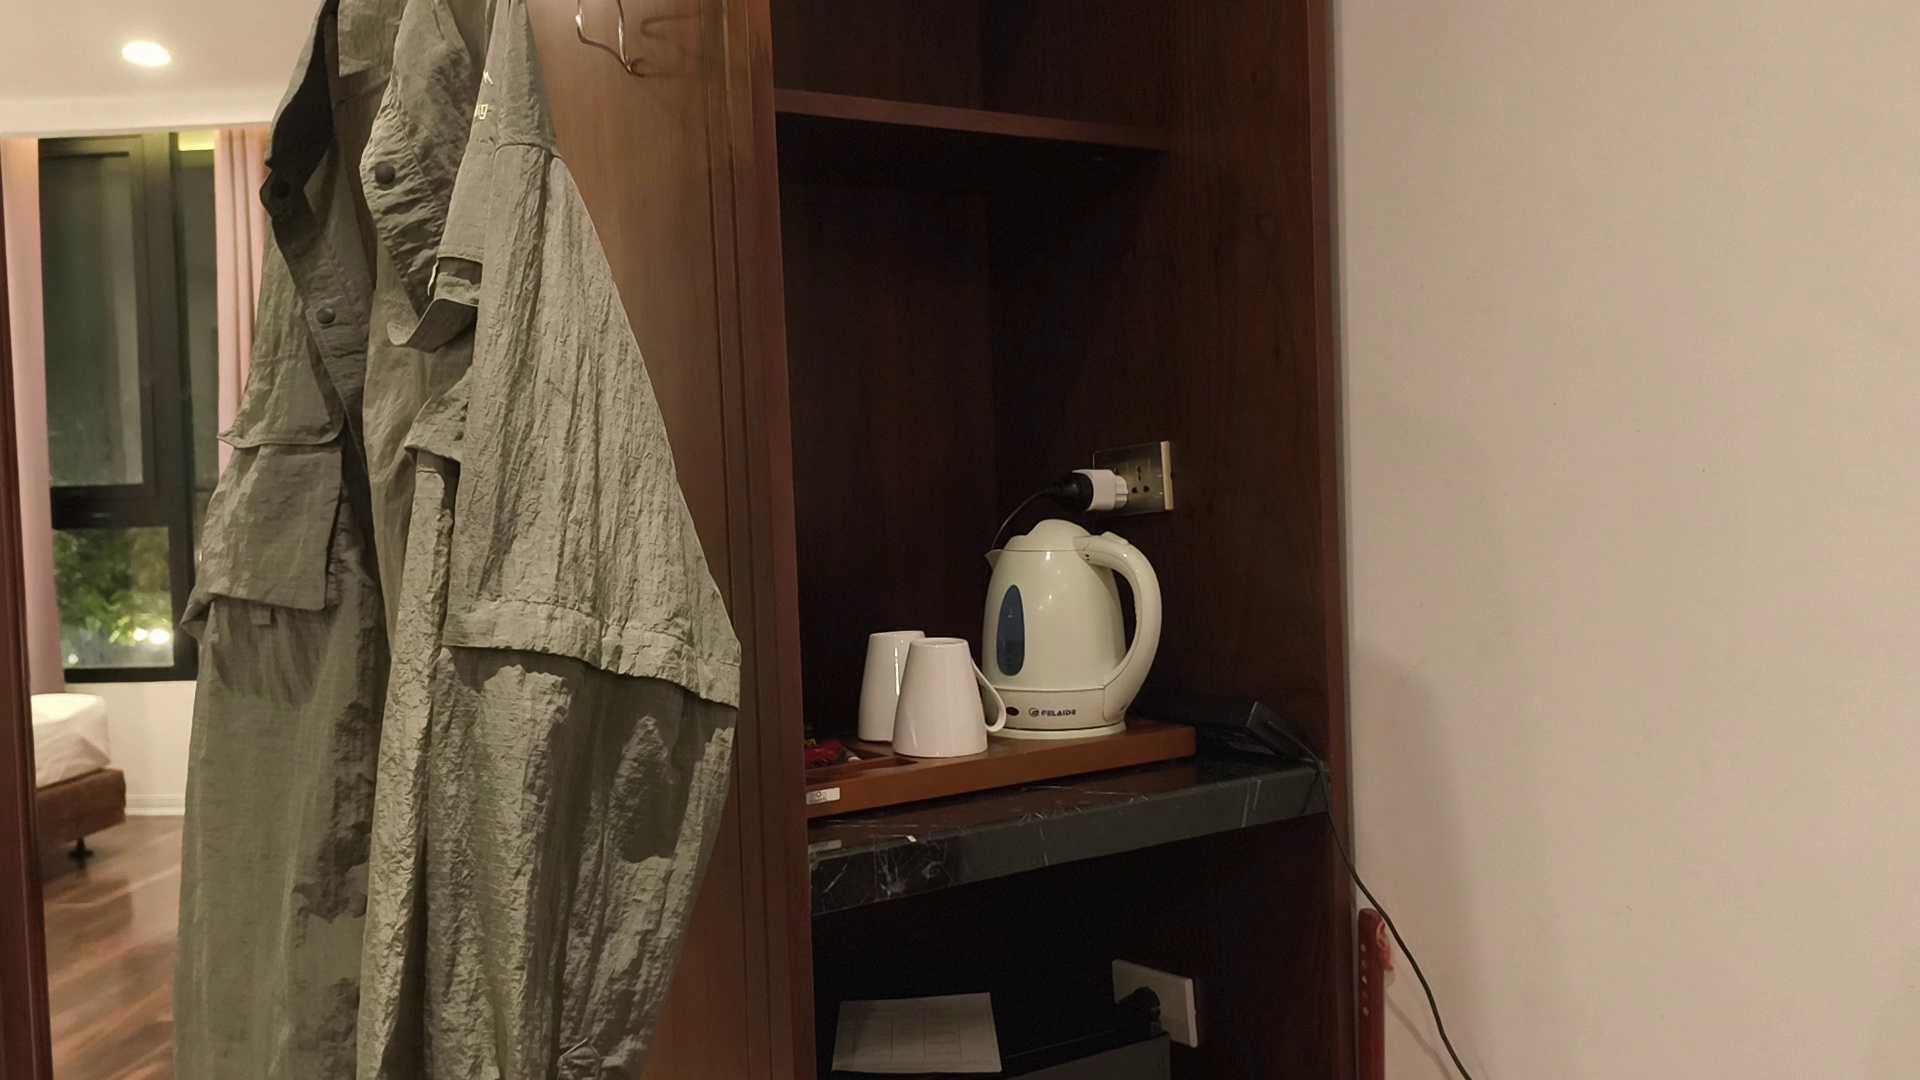cloth: (141, 104, 728, 1064)
cpu: (868, 633, 1007, 762)
cup: (994, 527, 1164, 744)
dianxian: (1047, 443, 1141, 521)
windows: (29, 129, 204, 674)
